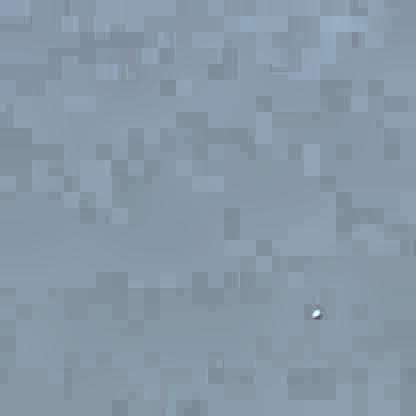golfball: (308, 308, 319, 318)
